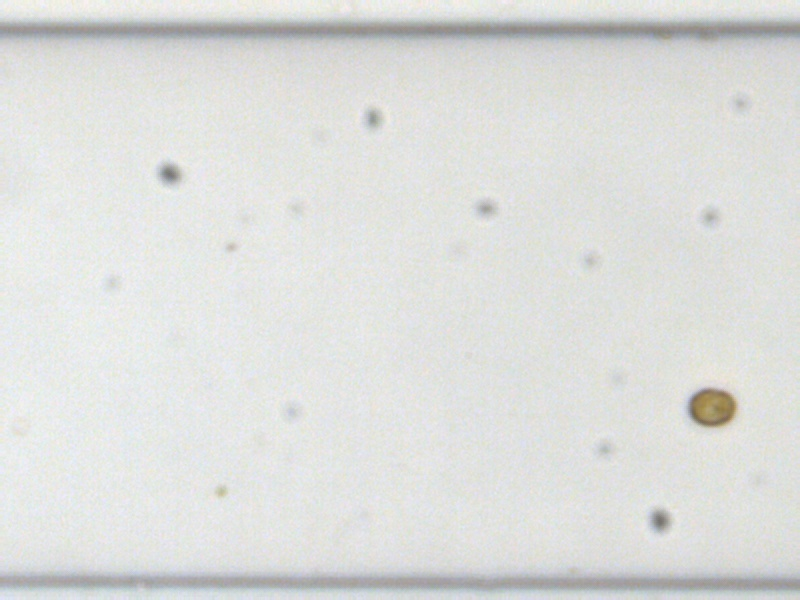Chlorella: (213, 482, 229, 497)
Effrenium: (687, 388, 734, 428)
